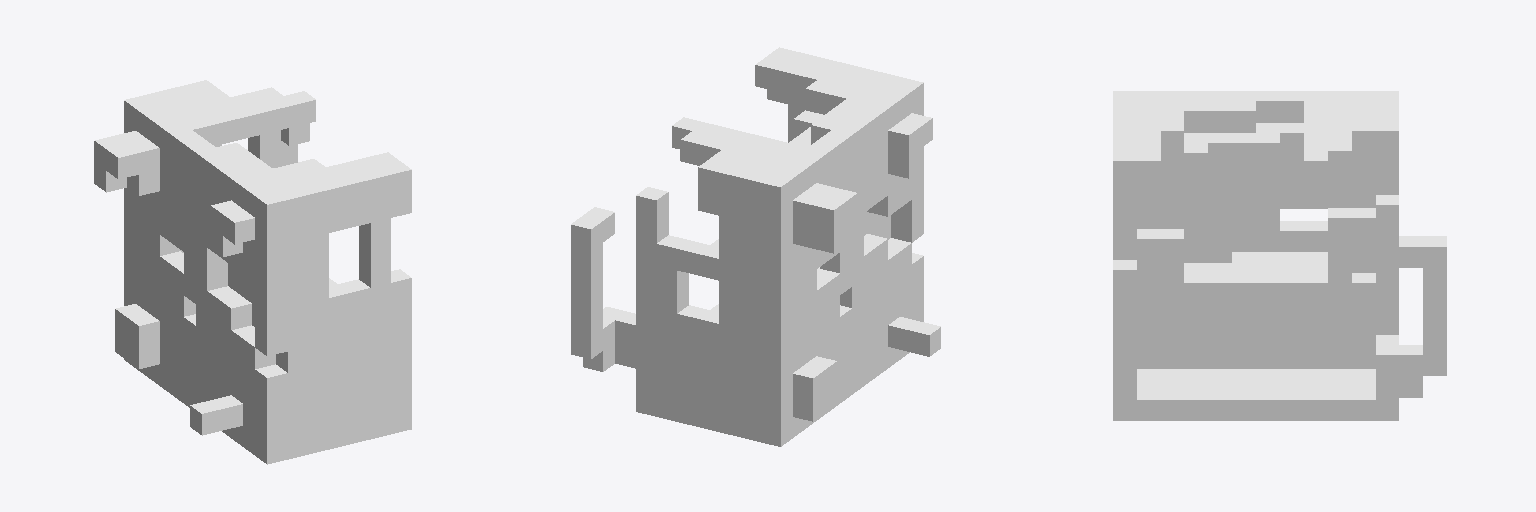
The model's file is BrokenMinecart.obj.
The picture shows the model from 3 angles: view 1: azimuth 30°, elevation 25°; view 2: azimuth 150°, elevation 25°; view 3: azimuth 270°, elevation 25°; orthographic projection.
Size of the model in its own units: 11 by 12 by 14.